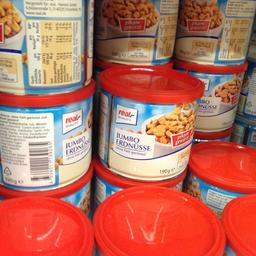nuts: (97, 63, 206, 182), (0, 84, 95, 190), (0, 0, 93, 95), (94, 0, 178, 63), (170, 0, 254, 61), (176, 60, 247, 132)
